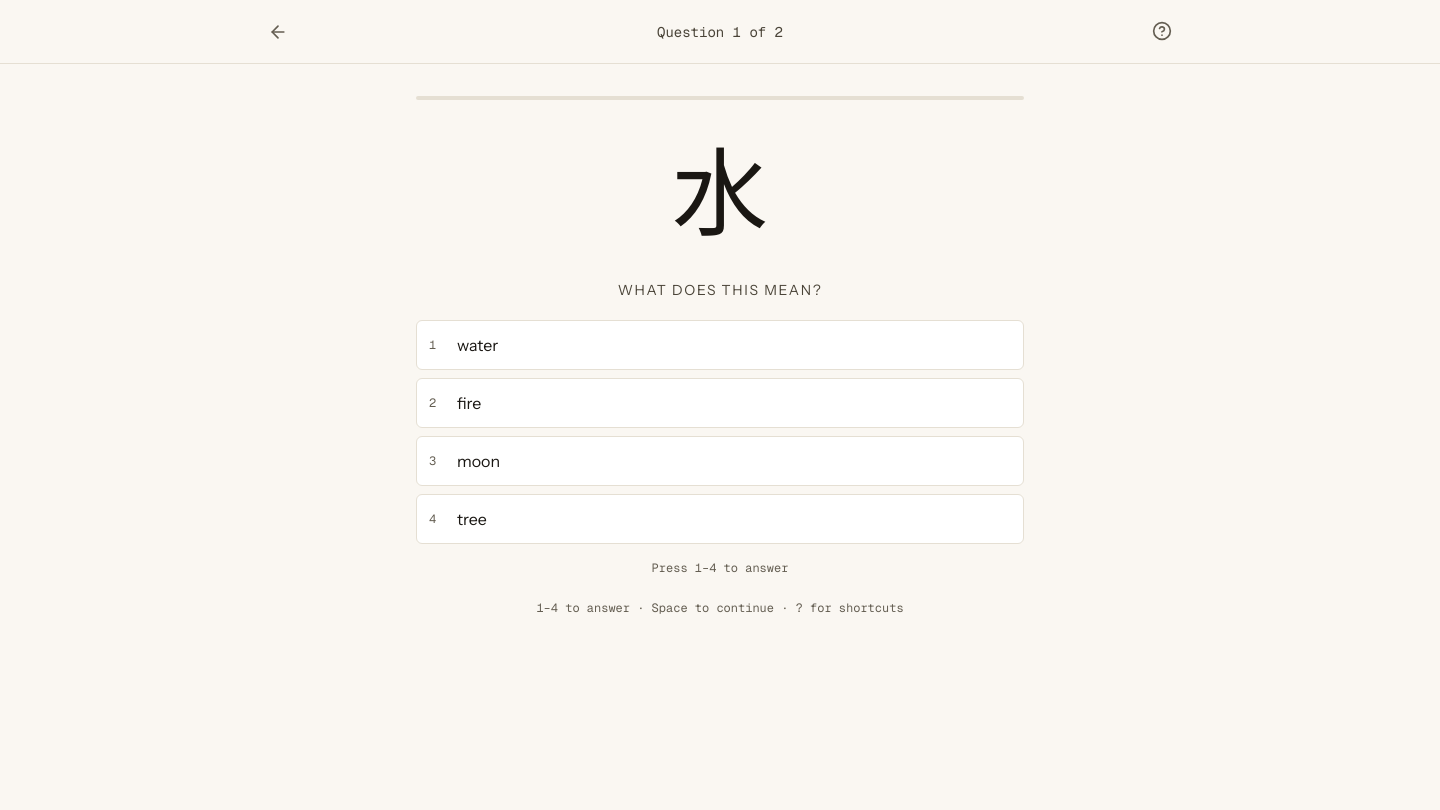
it: Quiz session (§7.6) — meaning › answers in order, advances on Space, and submits once
Expected: the text with test id "quiz-kanji" reads "水", [672,142,768,249]
Expected: the text "What does this mean?" is shown, [618,281,822,299]
Step 1. Click the button "1 water" → {"x": 478, "y": 345}, box [416,320,1024,370]
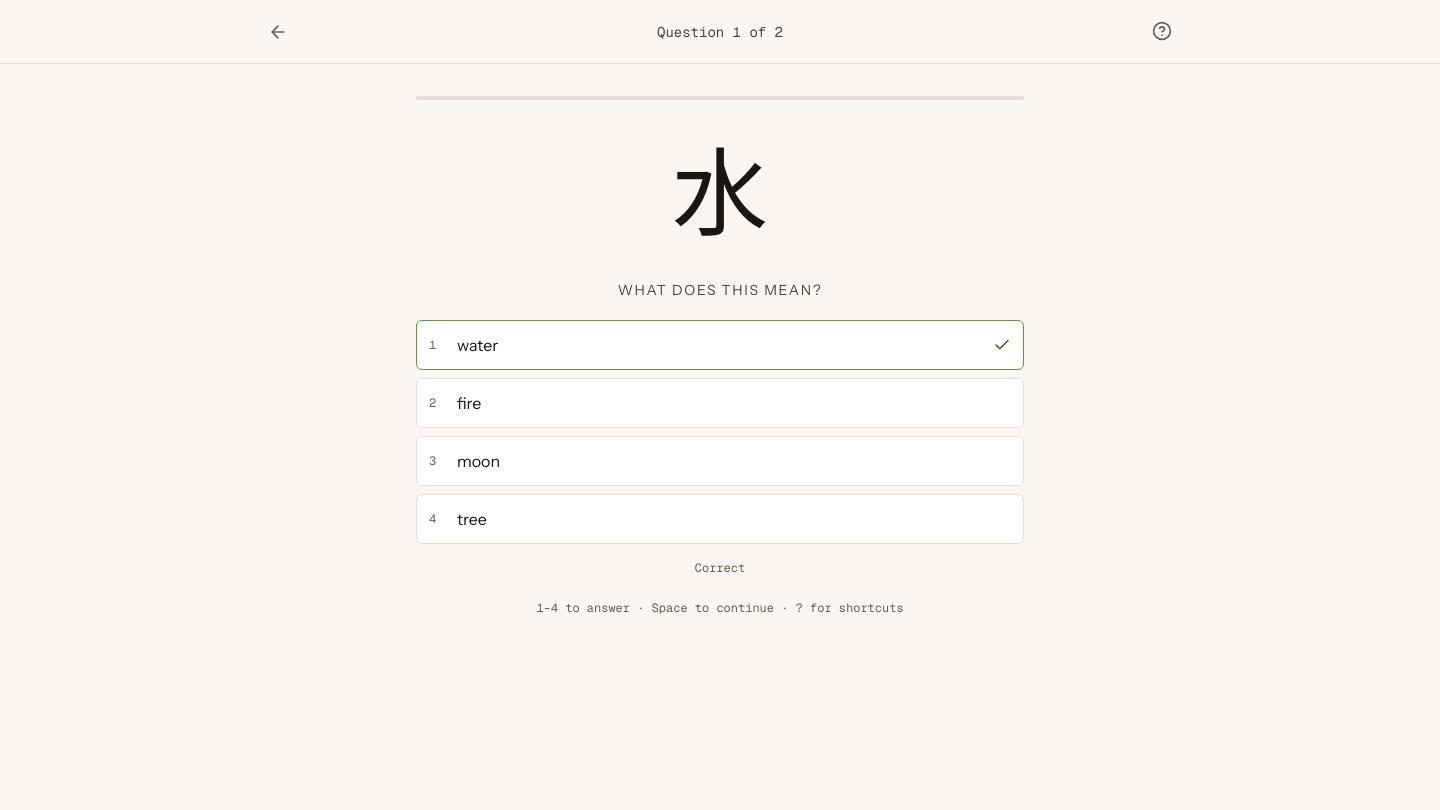
Expected: the text "Correct" is shown, [695,560,745,576]
Expected: the button "1 water" is disabled, [416,320,1024,370]
Step 2. Press Space
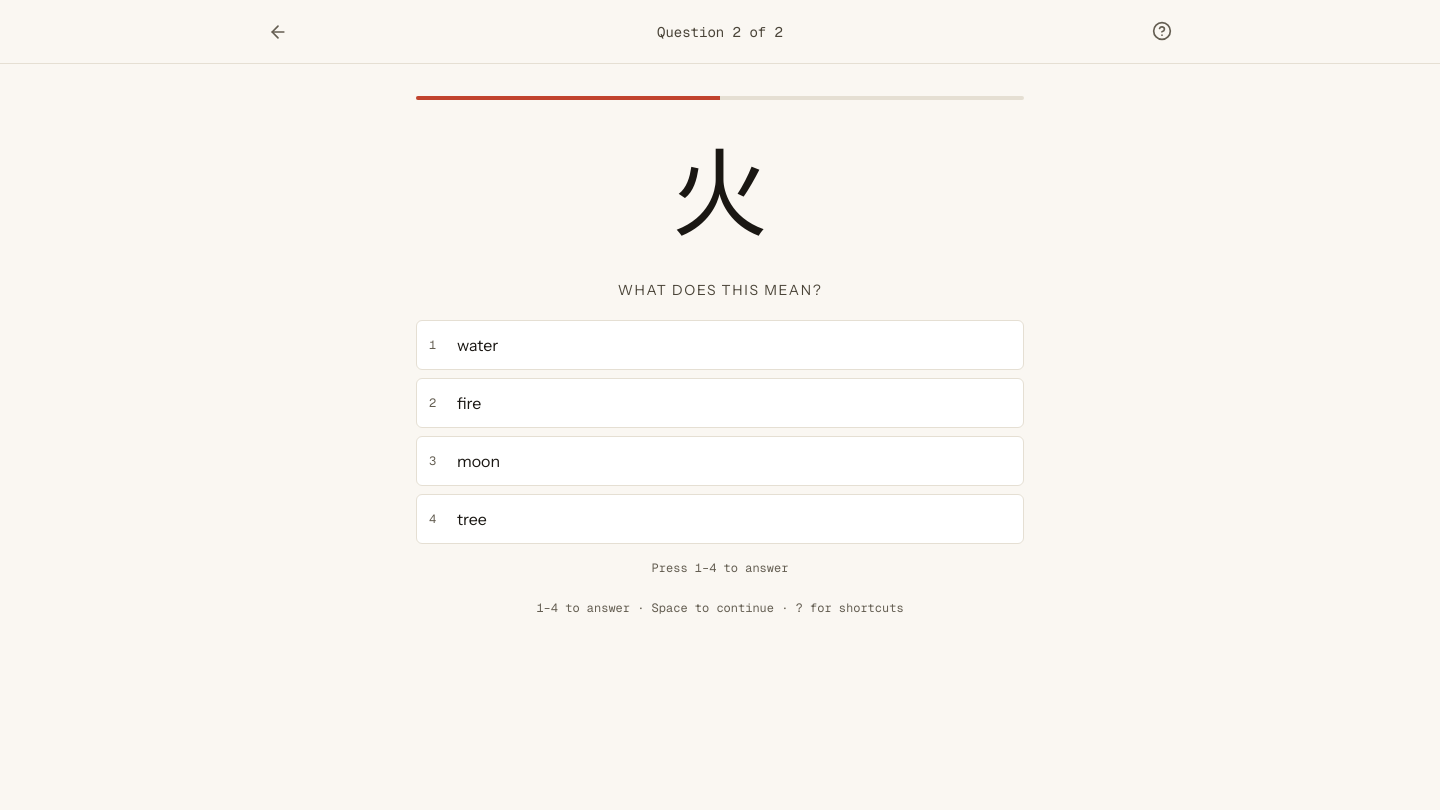
Expected: the text with test id "quiz-kanji" reads "火", [672,142,768,249]
Step 3. Click the button "2 fire" → {"x": 433, "y": 403}, box [416,378,1024,428]
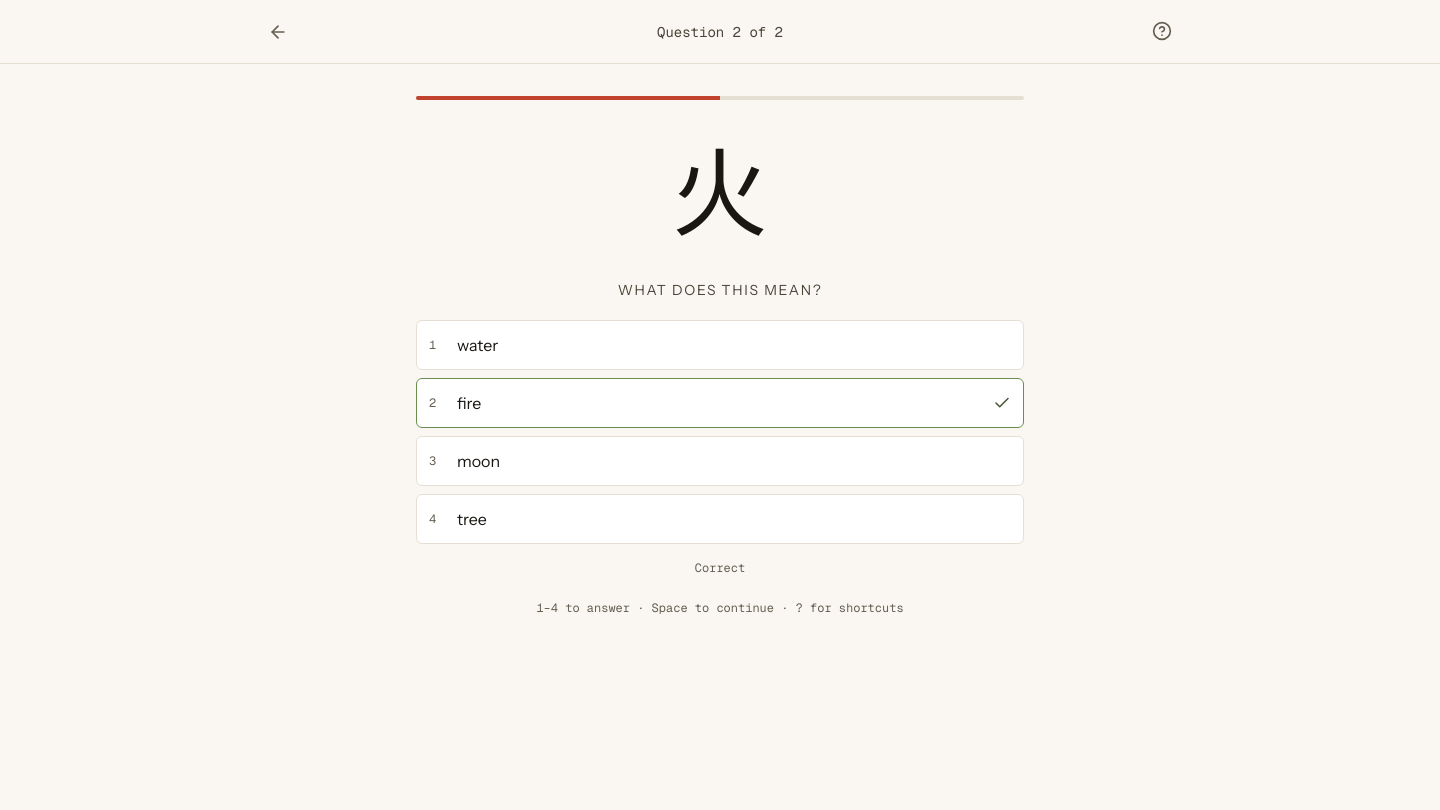
Expected: the text "Correct" is shown, [695,560,745,576]
Step 4. Press Space
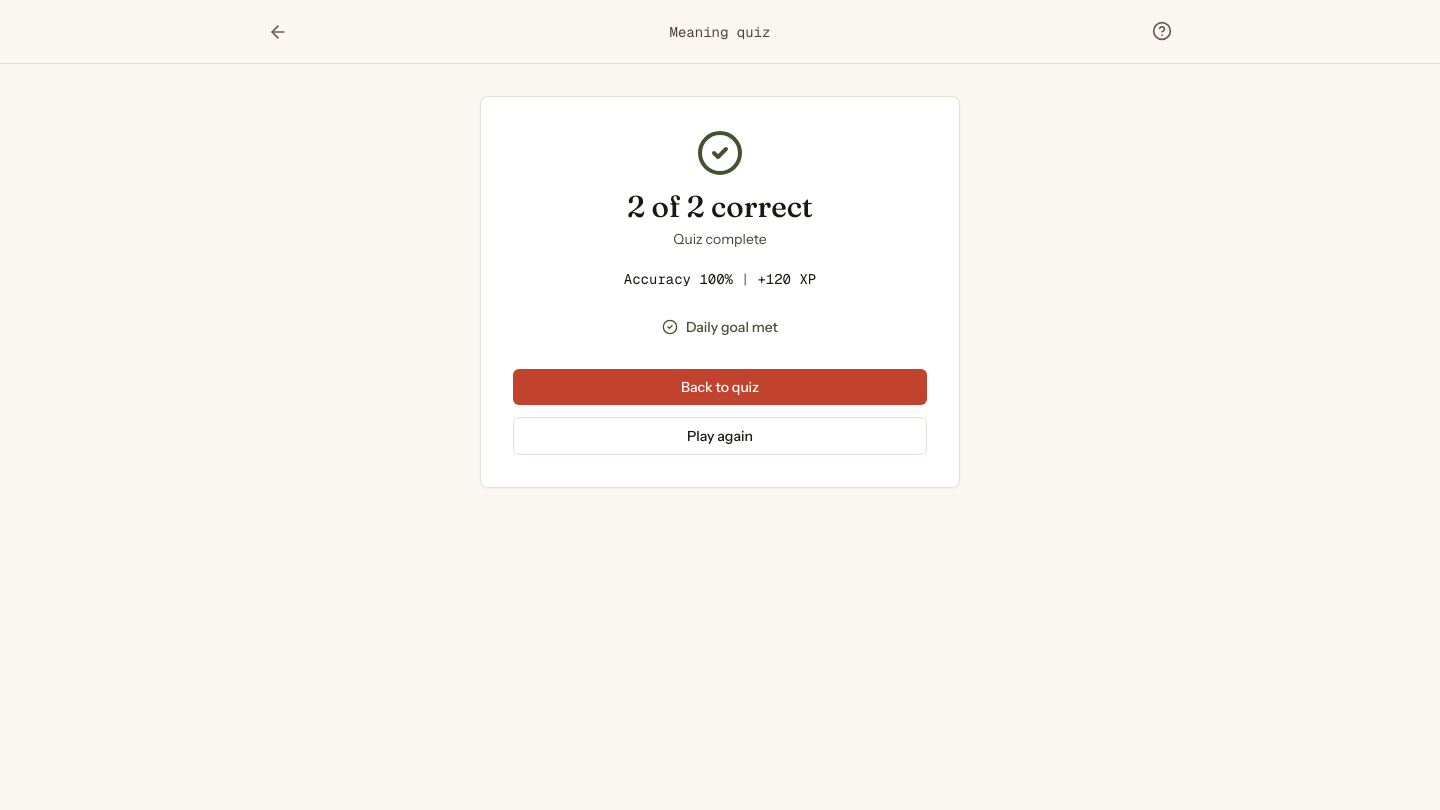
Expected: the element with test id "quiz-summary" is shown, [480,96,960,488]
Expected: the heading "2 of 2 correct" is shown, [627,189,813,225]
Expected: the text "Accuracy 100%|+120 XP" is shown, [624,269,816,289]
